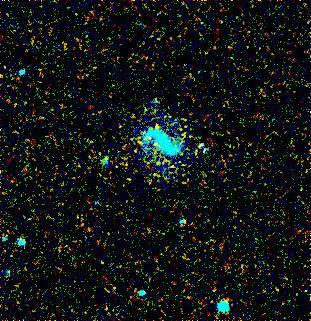star: (143, 111, 173, 141)
